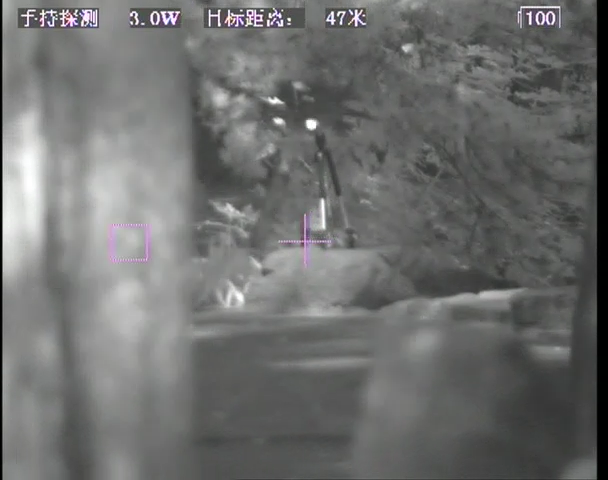my: (304, 117, 319, 134)
